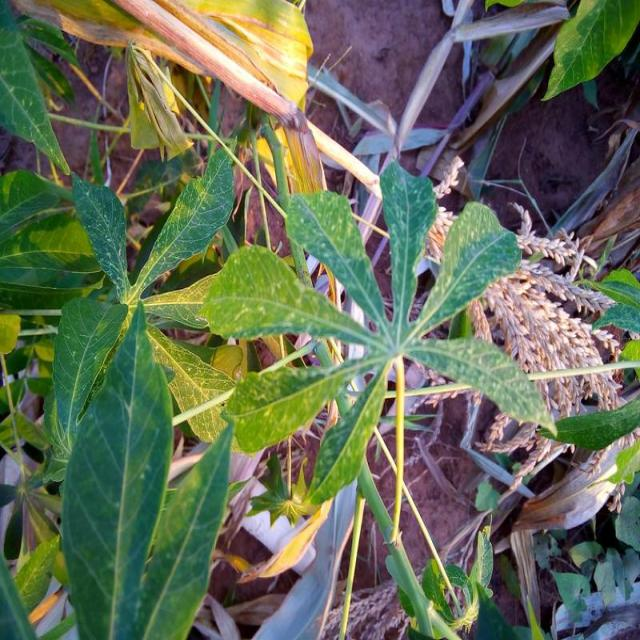cassava leaf: (59, 300, 174, 638), (198, 242, 381, 347)
